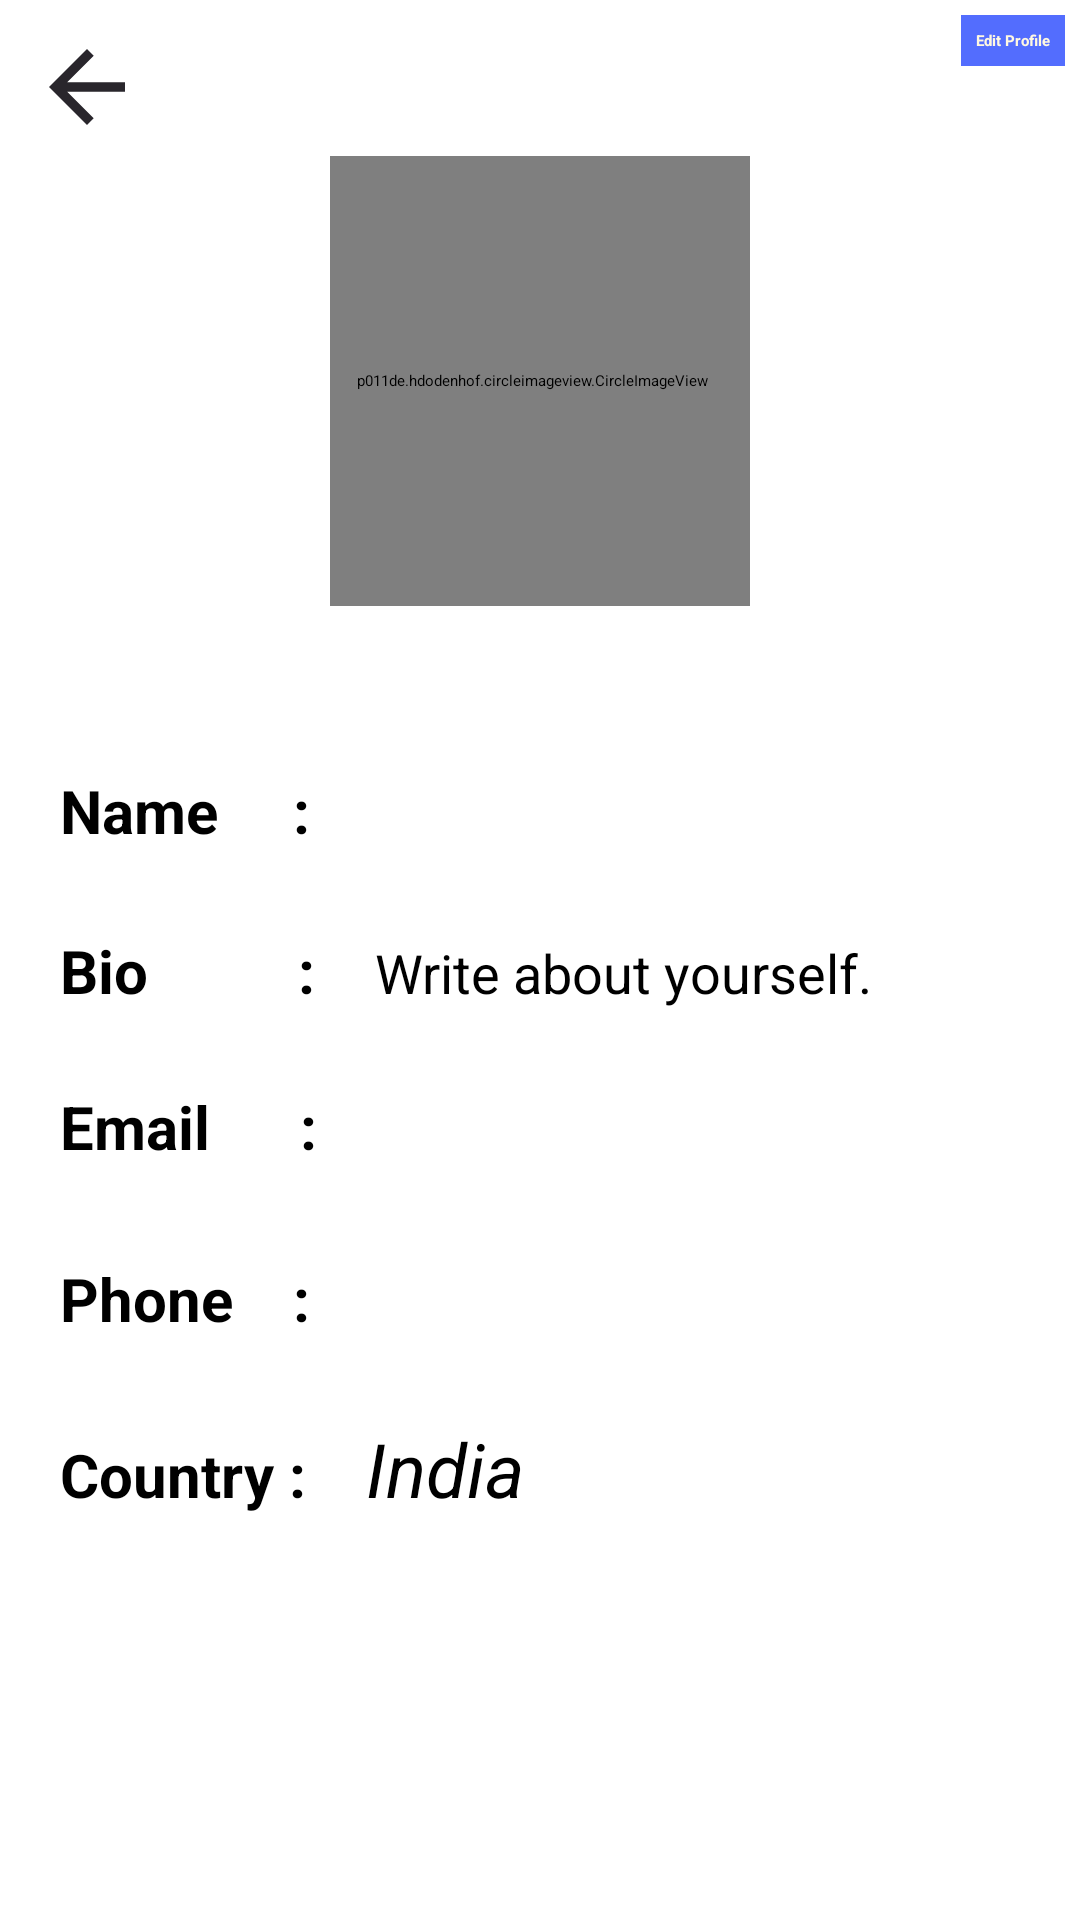

Icon click points for this 1080px×1920px phone screenshot, format point (x, y):
back: point (87, 87)
